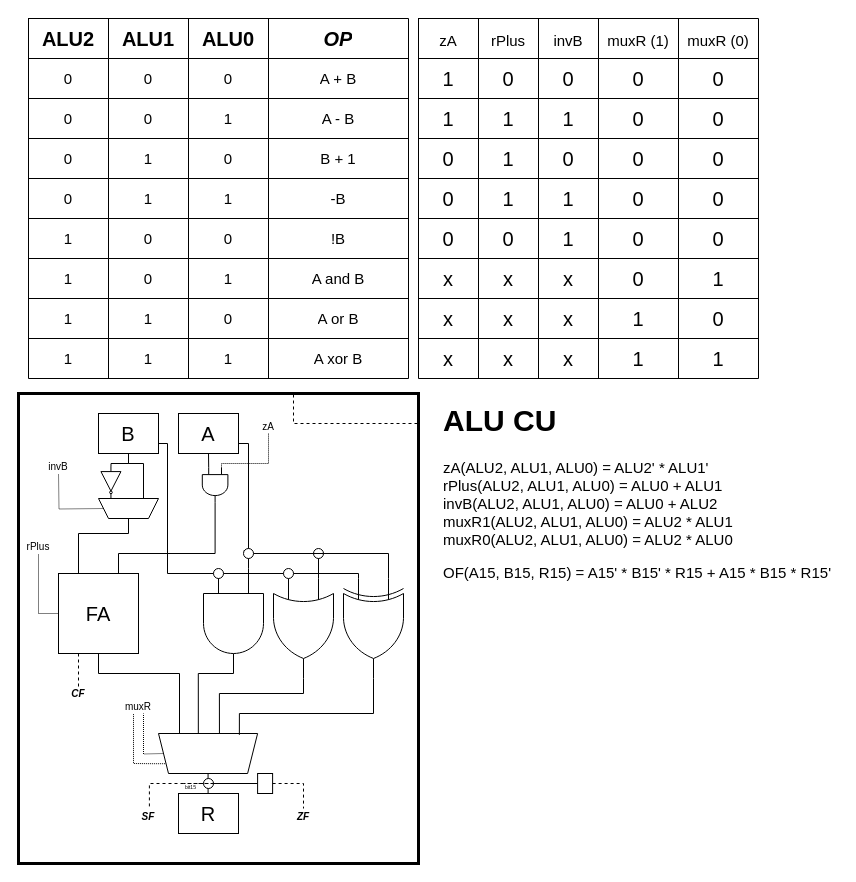
This 856x882 diagram has some shape labels left out. Here are the shapes that lost their labels. From the top down, the box of each, then its label:
(292, 392, 418, 424): Logic Circuit
(257, 772, 273, 794): AND
